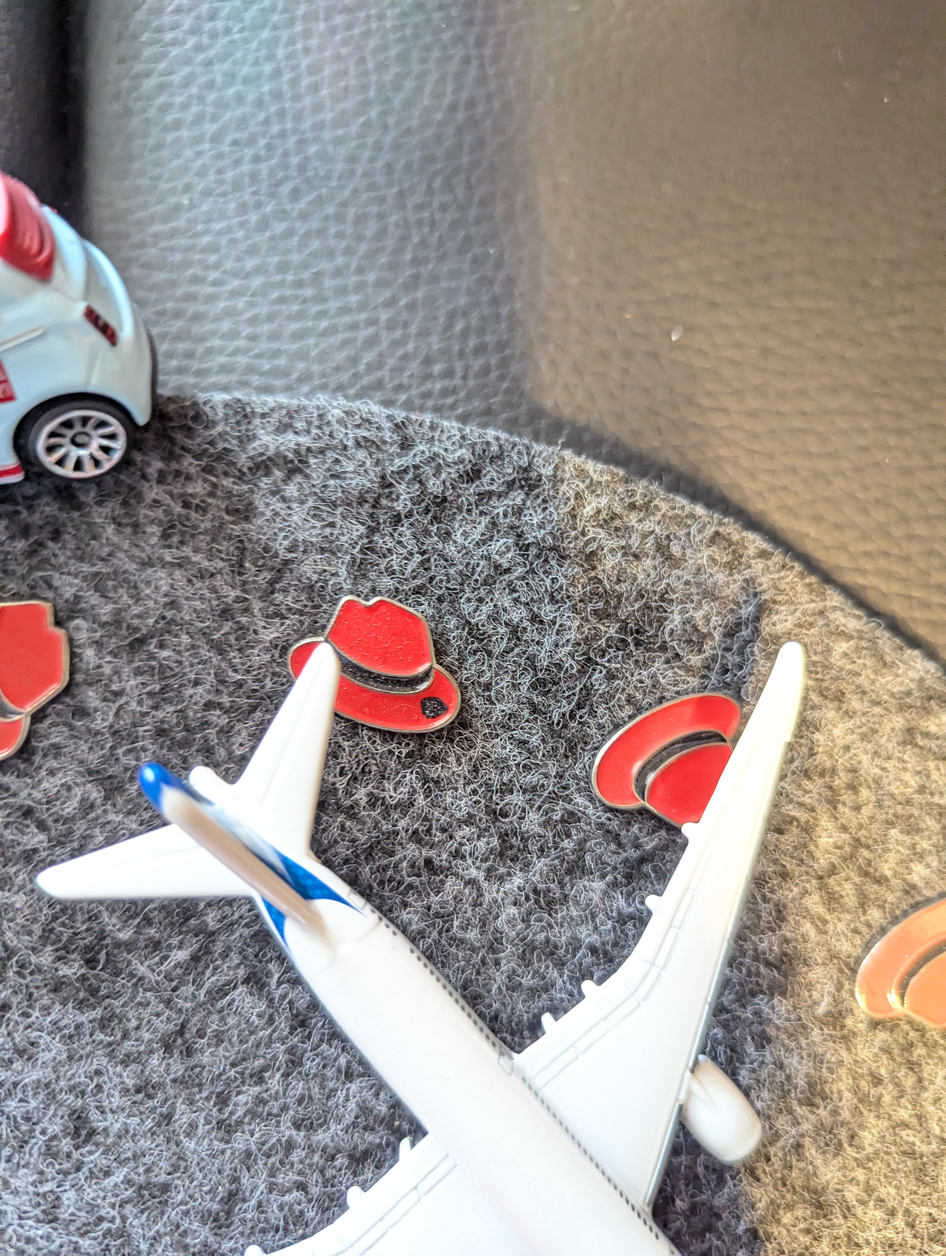Airplane: (1, 614, 856, 1256)
Car: (0, 149, 204, 503)
Red-Hat: (565, 642, 768, 847), (279, 563, 471, 753), (842, 837, 946, 1054)
Scratch: (400, 675, 469, 727)
